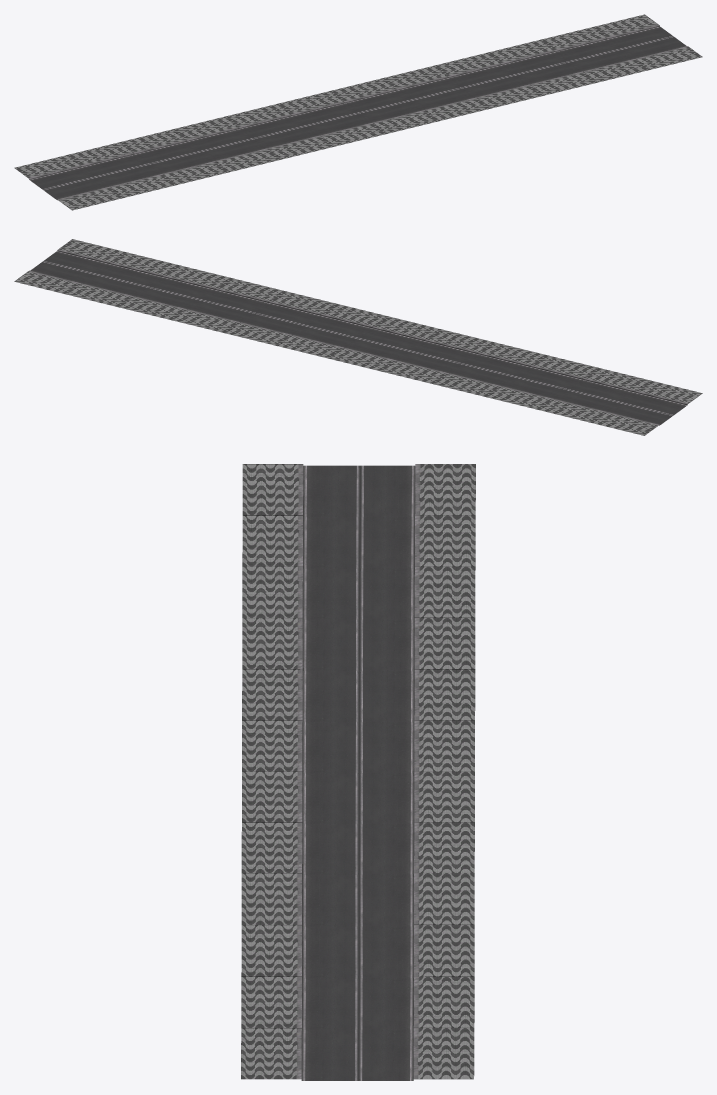
Rendered from roadssfs12.obj.
3 views of the same model, one above another, from view 1: azimuth 30°, elevation 25°; view 2: azimuth 150°, elevation 25°; view 3: azimuth 270°, elevation 25° (orthographic). The views are drawn at different scales.
Parts seen in each view (by area): view 1: ROADSsfs12; view 2: ROADSsfs12; view 3: ROADSsfs12.
Boxes of the visible parts, left/top/right/bottom form: ROADSsfs12: left=14, top=14, right=702, bottom=210; ROADSsfs12: left=14, top=239, right=702, bottom=435; ROADSsfs12: left=241, top=464, right=475, bottom=1080.
Size of the model in its own units: 120 by 0.15 by 19.37.
2 materials, 2 textured.
